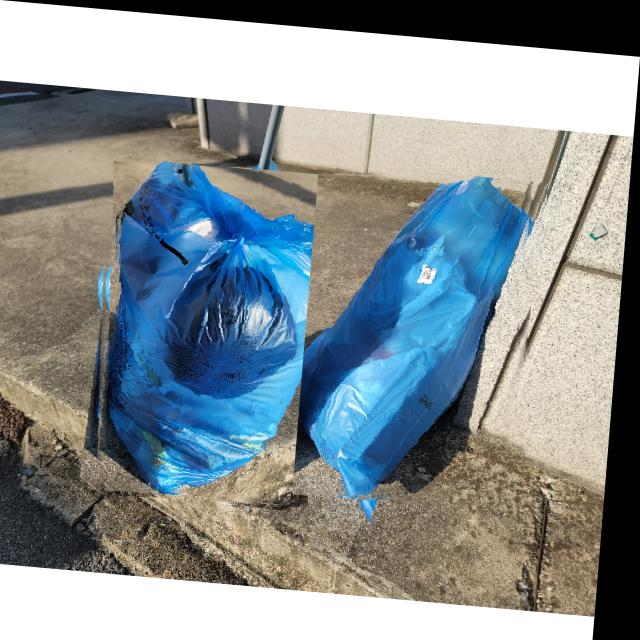other_trashbag: (101, 155, 336, 501), (301, 168, 535, 491)
